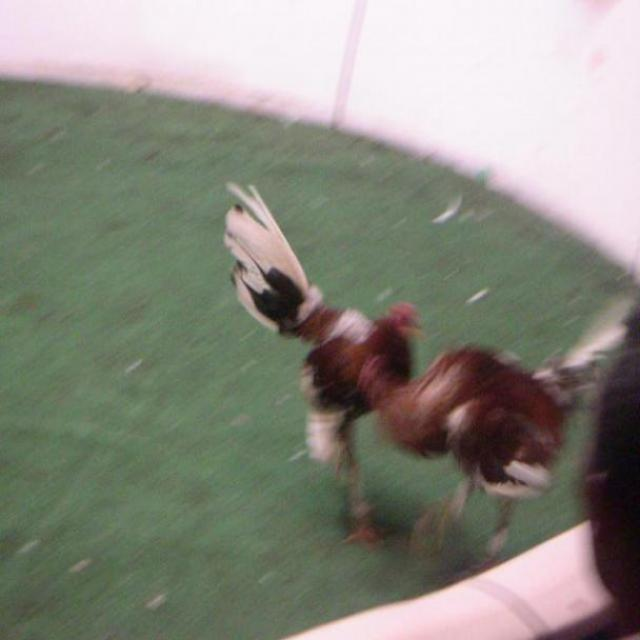Chicken: (228, 178, 417, 569), (342, 310, 597, 549)
